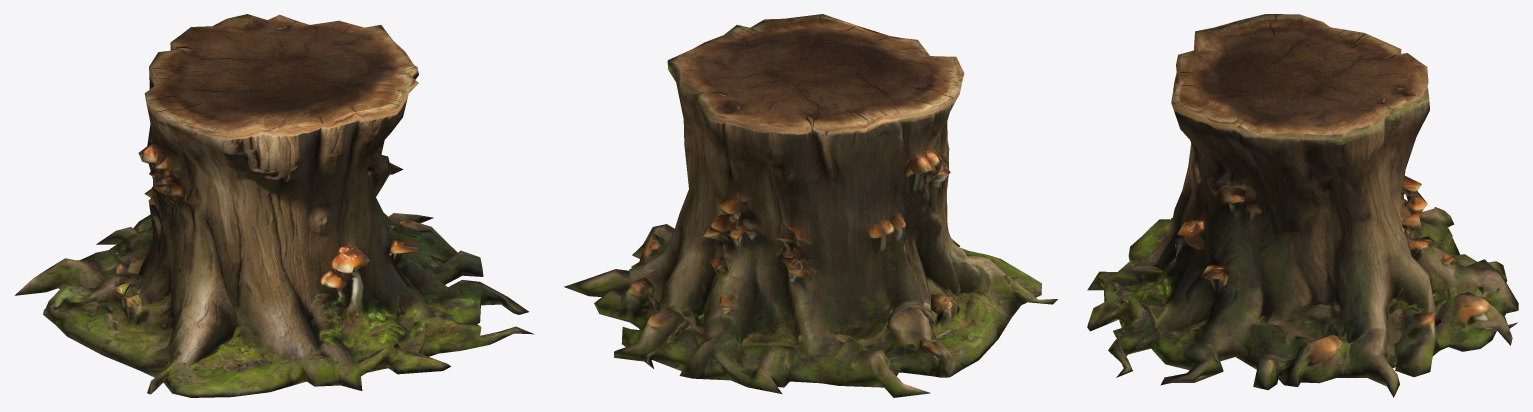
The model's file is trunkseat.glb.
3 renders of one model, left to right at view 1: azimuth 30°, elevation 25°; view 2: azimuth 150°, elevation 25°; view 3: azimuth 270°, elevation 25°, orthographic. The views are drawn at different scales.
Visible parts, largest first — view 1: stump1_LOW_RES; view 2: stump1_LOW_RES; view 3: stump1_LOW_RES.
Boxes of the visible parts, x1,y1,x2,y2 form: stump1_LOW_RES: (14,14,534,397); stump1_LOW_RES: (564,14,1057,397); stump1_LOW_RES: (1087,14,1518,397).
Size of the model in its own units: 1 by 0.567 by 0.972.
Materials: 1 (1 with a texture image).
